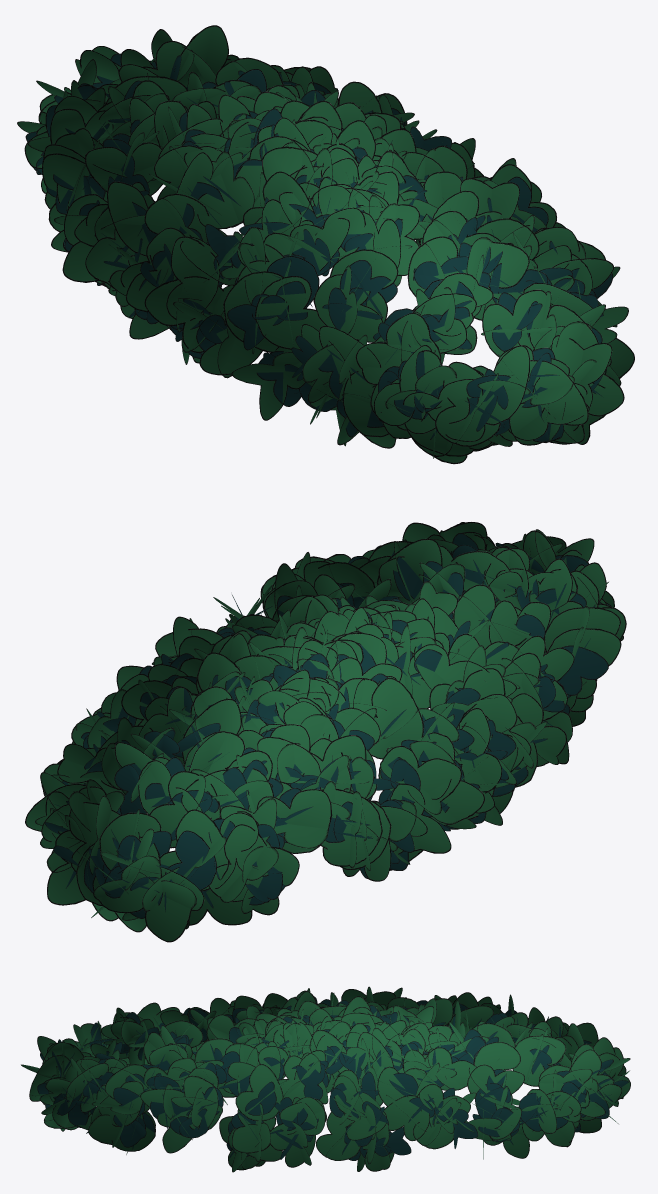
Rendered from Stylized_Bush_3 1.fbx.
The picture shows the model from 3 angles, top to bottom: view 1: azimuth 30°, elevation 25°; view 2: azimuth 150°, elevation 25°; view 3: azimuth 270°, elevation 25°; orthographic projection. The views are drawn at different scales.
Parts seen in each view (by area): view 1: Bush_1; view 2: Bush_1; view 3: Bush_1.
Boxes of the visible parts, left/top/right/bottom form: Bush_1: left=17, top=25, right=634, bottom=464; Bush_1: left=25, top=522, right=626, bottom=942; Bush_1: left=21, top=986, right=630, bottom=1172.
Size of the model in its own units: 188 by 376 by 94.65.
